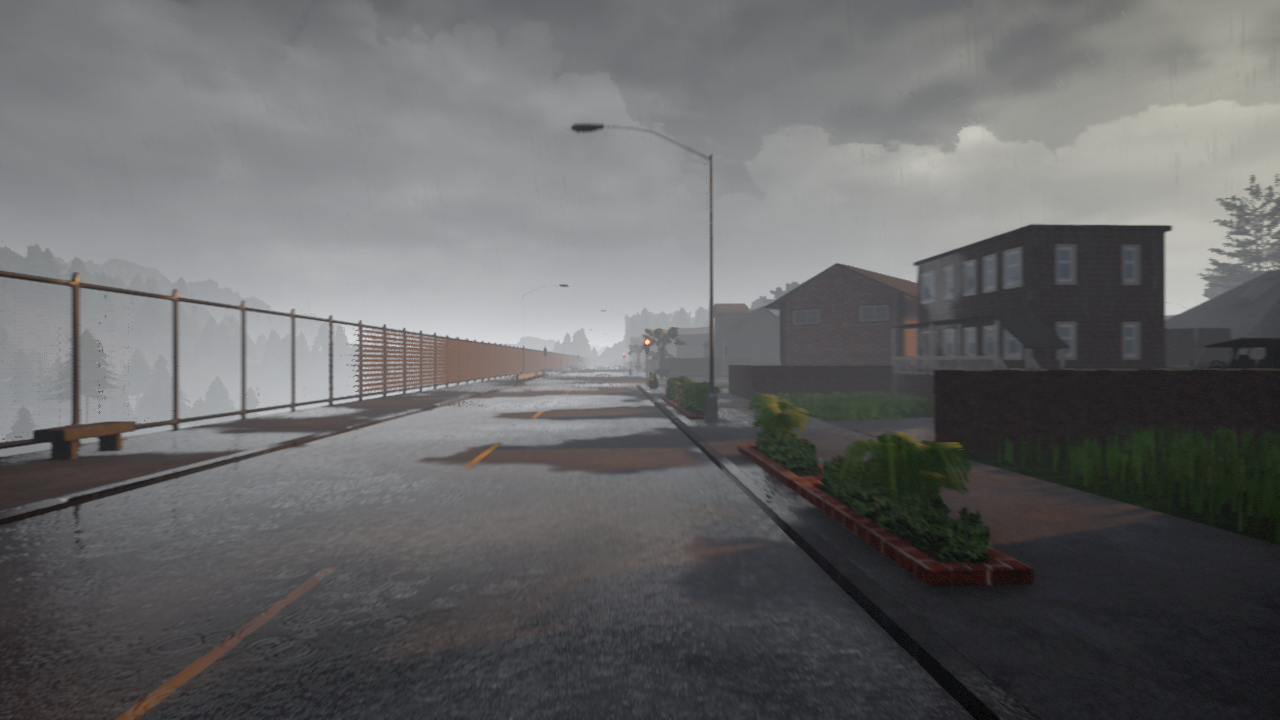red: (643, 337, 650, 353)
